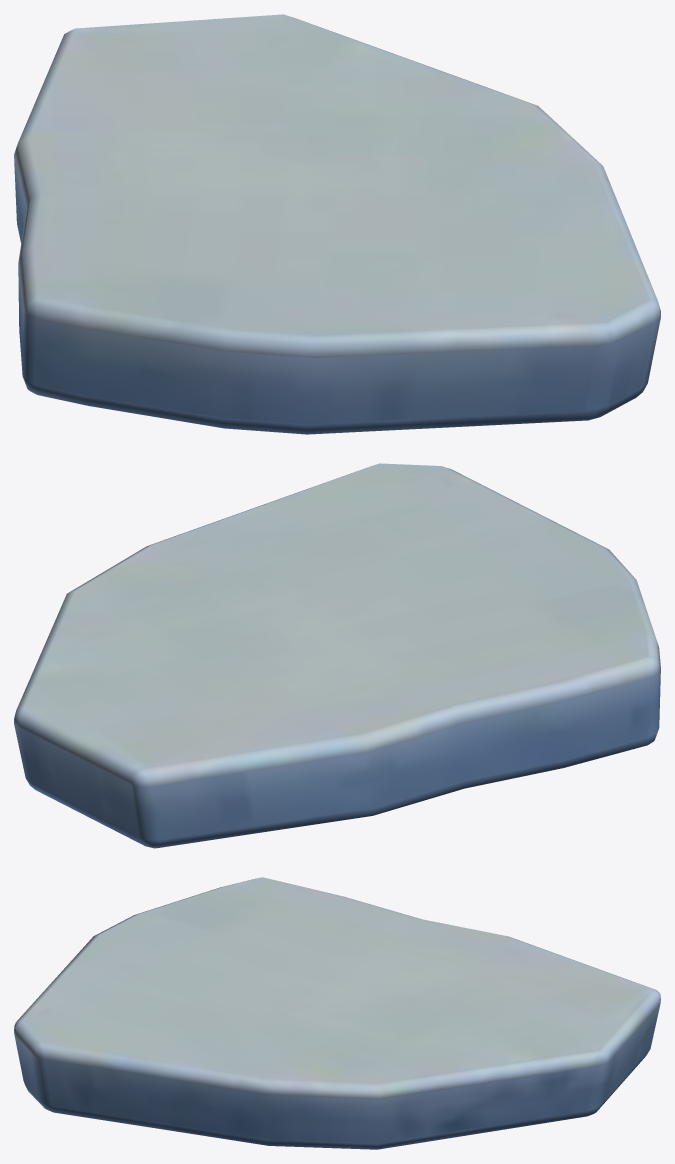
The picture shows the model from 3 angles, top to bottom: view 1: azimuth 30°, elevation 25°; view 2: azimuth 150°, elevation 25°; view 3: azimuth 270°, elevation 25°; orthographic projection. The views are drawn at different scales.
Parts seen in each view (by area): view 1: body0_model0_lod0_mesh0; view 2: body0_model0_lod0_mesh0; view 3: body0_model0_lod0_mesh0.
Boxes of the visible parts, x1,y1,x2,y2 form: body0_model0_lod0_mesh0: (14,14,660,434); body0_model0_lod0_mesh0: (14,463,660,848); body0_model0_lod0_mesh0: (14,877,660,1149).
Size of the model in its own units: 56.38 by 9.78 by 73.41.
1 material, 1 textured.
